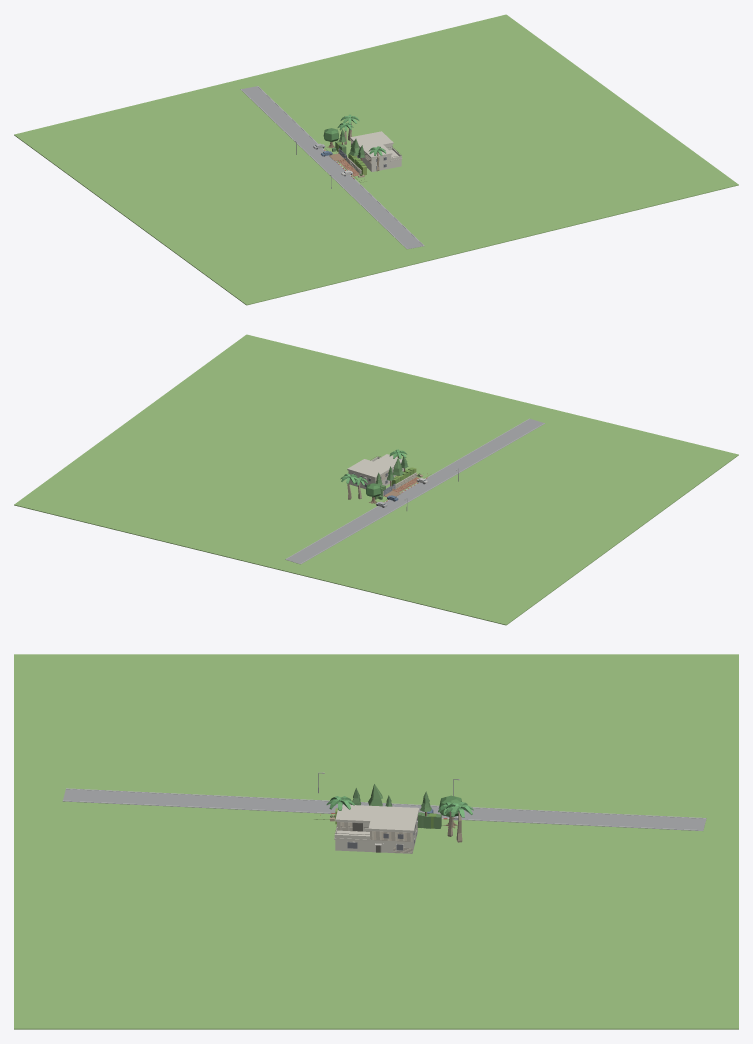
Rendered from world_test2.glb.
The picture shows the model from 3 angles, top to bottom: view 1: azimuth 30°, elevation 25°; view 2: azimuth 150°, elevation 25°; view 3: azimuth 270°, elevation 25°; orthographic projection. The views are drawn at different scales.
Bounding box in the file's own units: 220 × 11.8 × 180.
